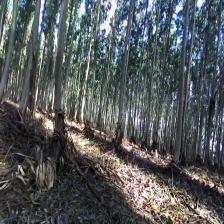trunk: (170, 17, 188, 171), (16, 7, 40, 121), (50, 6, 68, 155), (115, 12, 132, 146), (84, 24, 100, 130)
